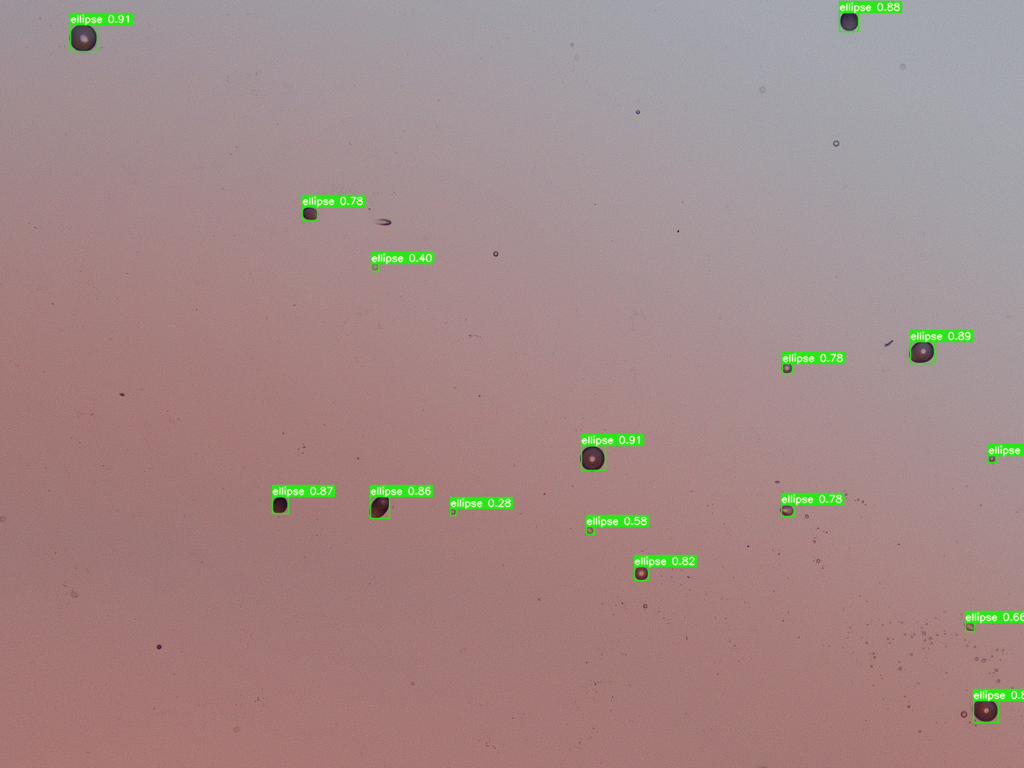circle: (69, 24, 96, 50), (580, 446, 604, 470), (840, 11, 858, 29), (635, 567, 647, 579), (782, 363, 792, 373), (586, 527, 592, 533), (371, 263, 377, 269), (833, 140, 839, 146), (961, 711, 966, 717), (450, 509, 455, 514), (493, 251, 497, 256)
ellipse: (972, 699, 997, 721), (301, 207, 318, 220), (779, 505, 793, 515), (964, 621, 975, 631)
